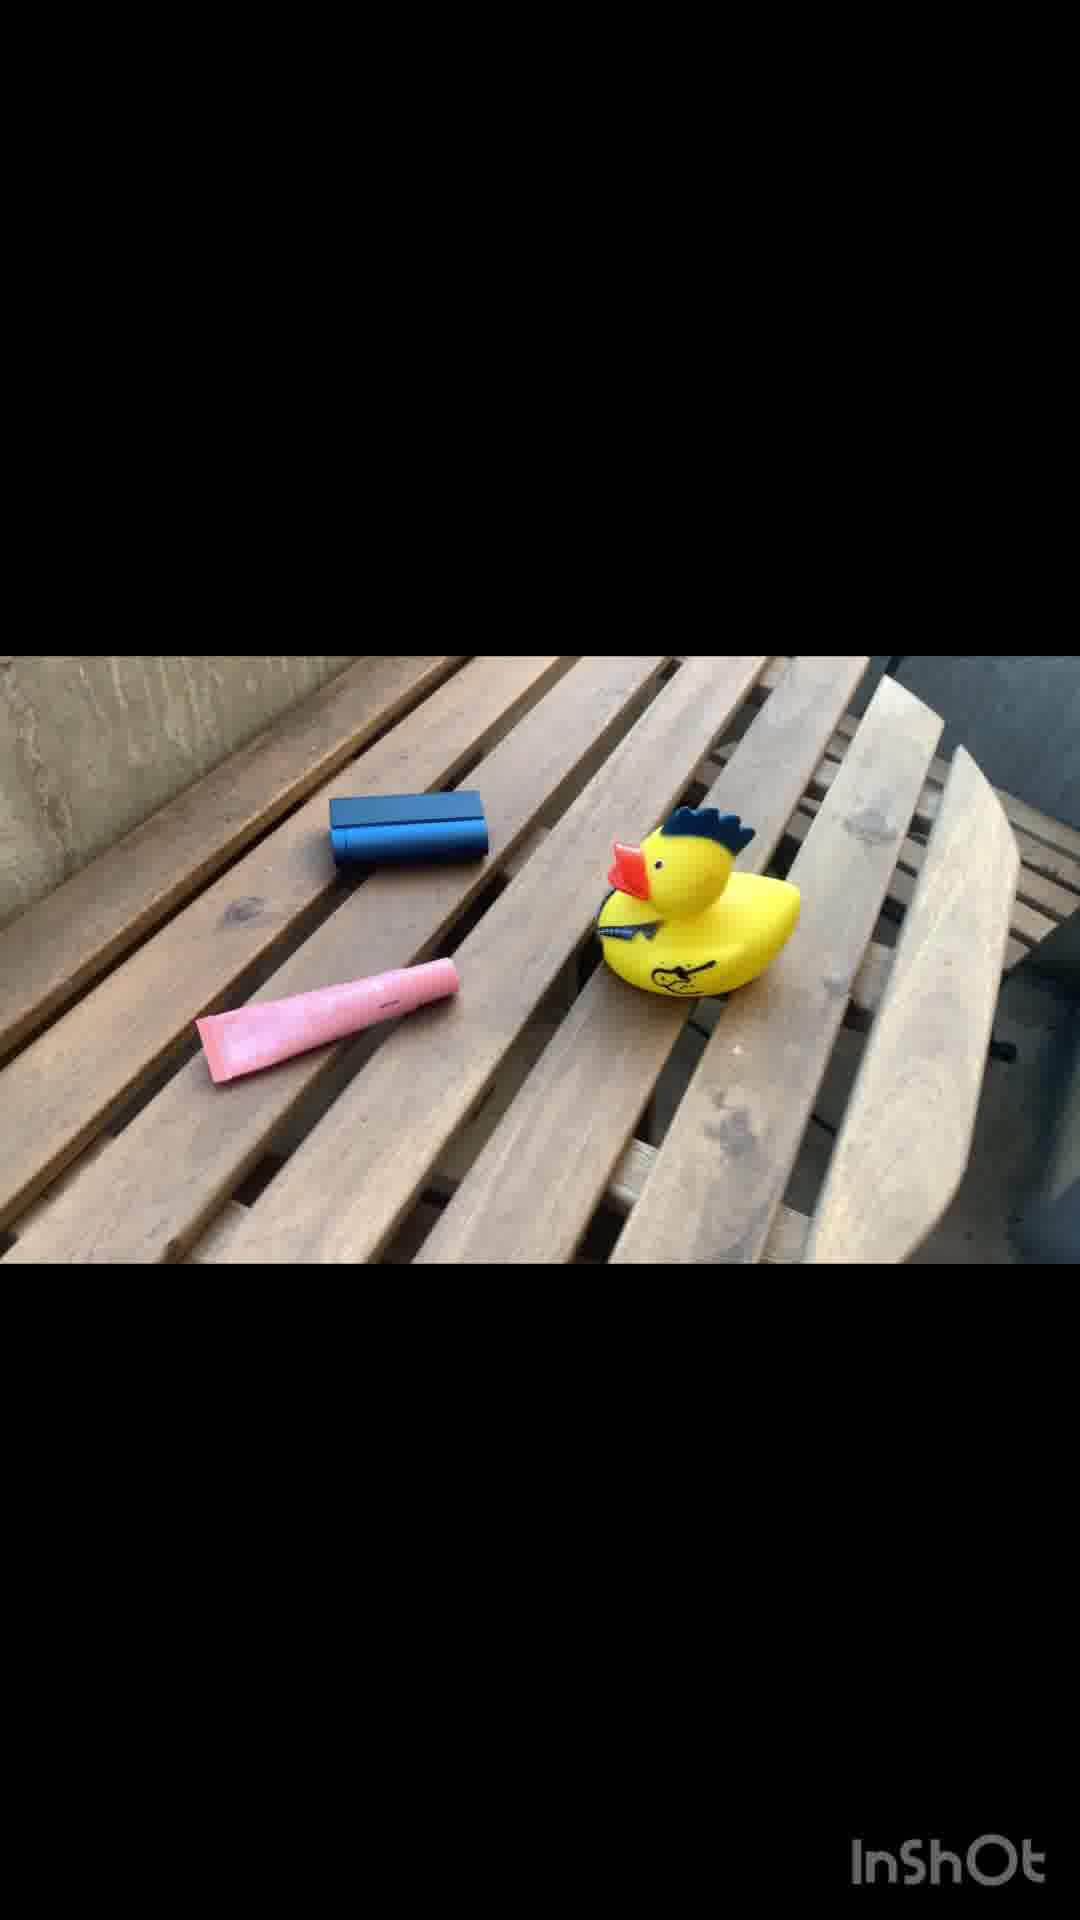duck: (574, 800, 795, 1004)
glo: (320, 787, 500, 876)
lip balm: (195, 944, 462, 1080)
